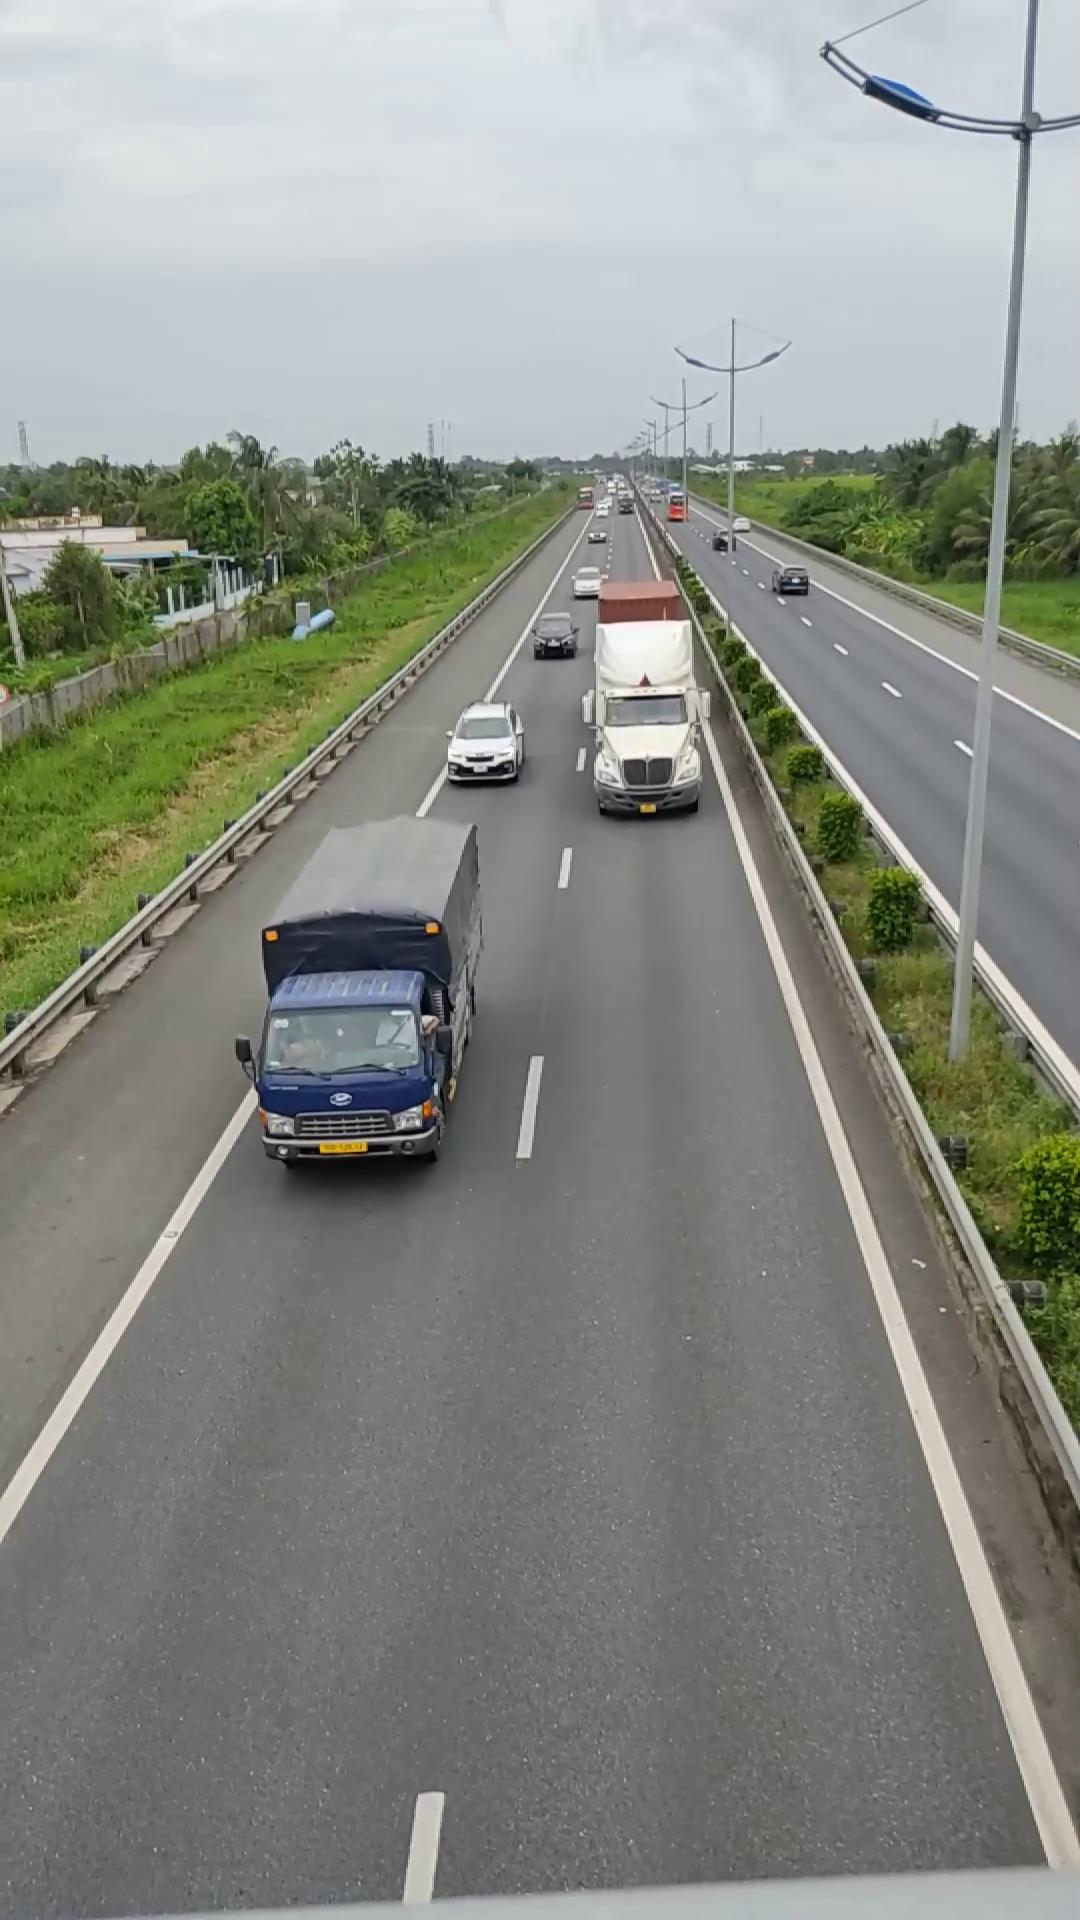car: (444, 700, 527, 784)
container: (577, 569, 705, 816)
truck: (247, 808, 490, 1166)
